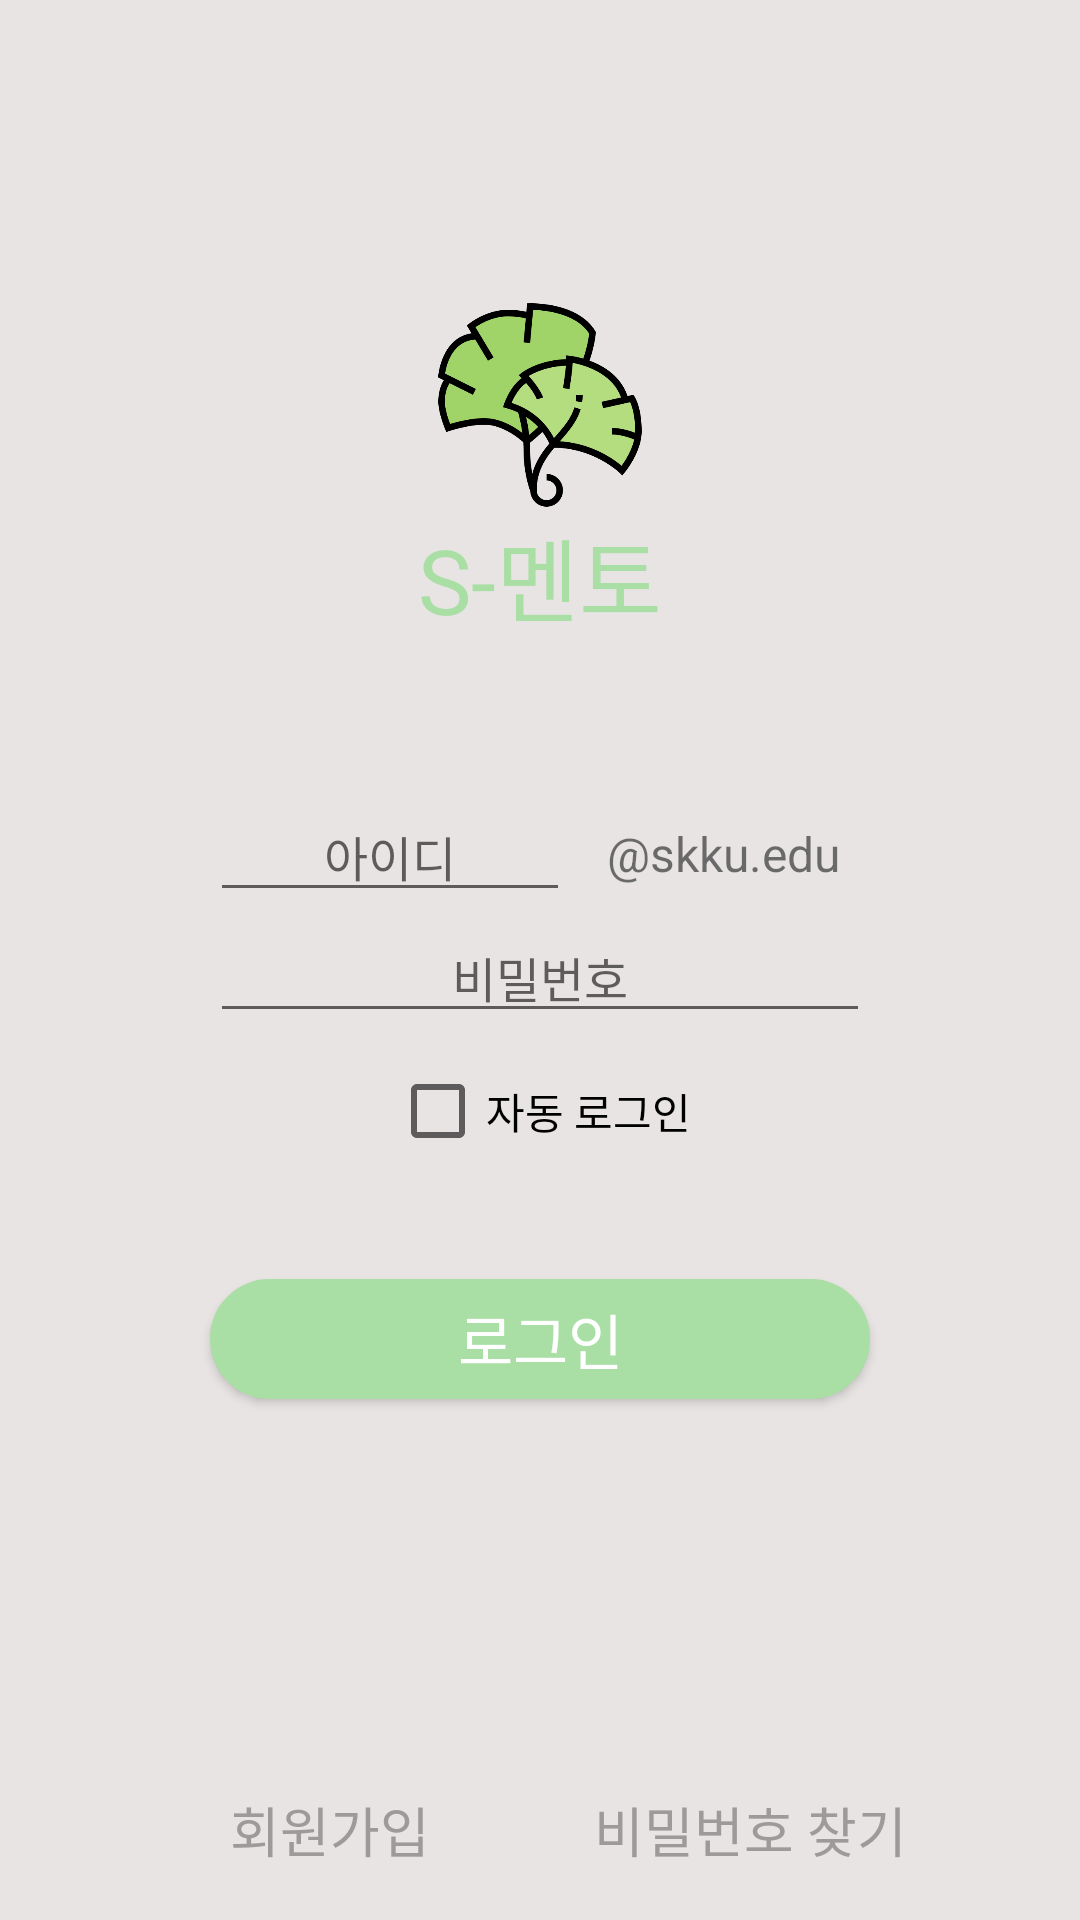

Icon bounding boxes for this 1080×1920 phone screenshot, format (x1, y1, x2, y2):
ginkgo: (438, 303, 642, 507)
